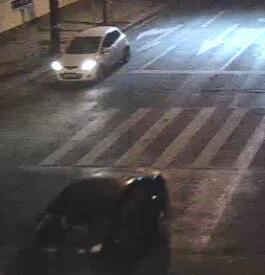car: (16, 168, 174, 275), (50, 26, 133, 86)
